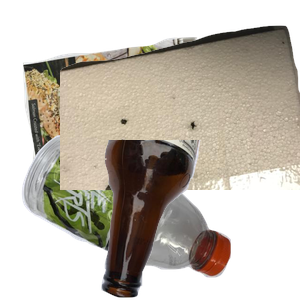glass: (99, 140, 300, 300)
paper: (20, 34, 221, 214)
plastic: (19, 132, 242, 300)
trash: (60, 23, 300, 203)
